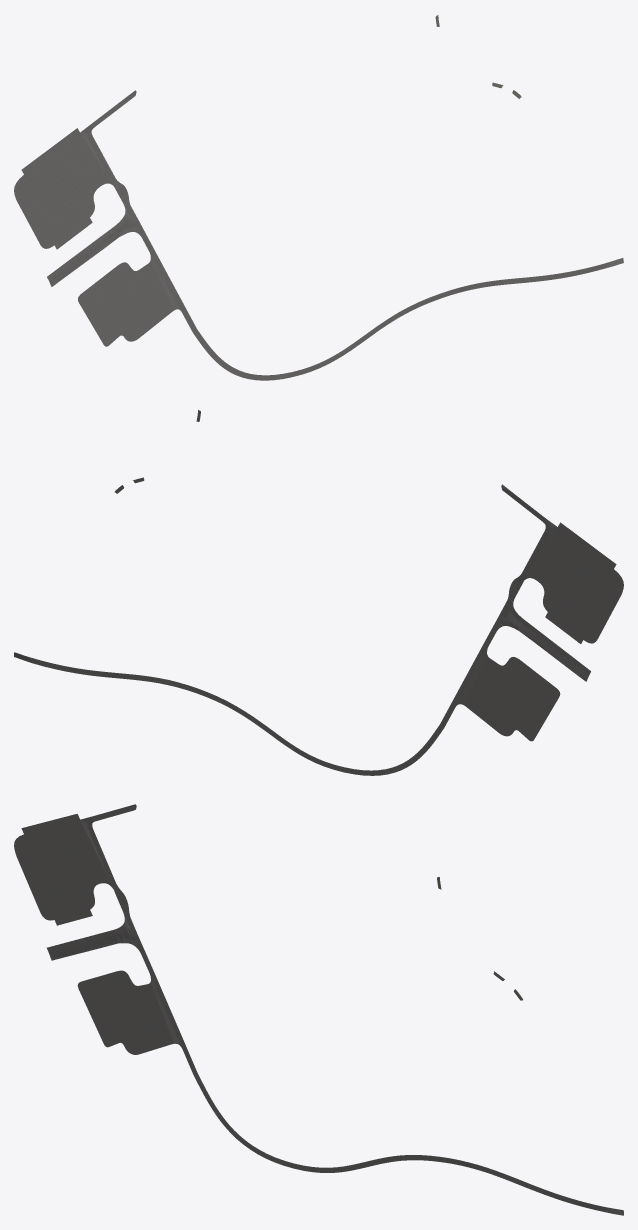
Rendered from baylands_asphalt.glb.
3 renders of one model, top to bottom at view 1: azimuth 30°, elevation 25°; view 2: azimuth 150°, elevation 25°; view 3: azimuth 330°, elevation 25°, orthographic.
Visible parts, largest first — view 1: asphalt; view 2: asphalt; view 3: asphalt.
Part boxes in pixels (x1,y1,x2,y2): asphalt: (14, 15, 623, 380); asphalt: (14, 410, 623, 775); asphalt: (14, 804, 623, 1215).
Bounding box in the file's own units: 696 × 357 × 2.25.
1 material, 1 textured.
